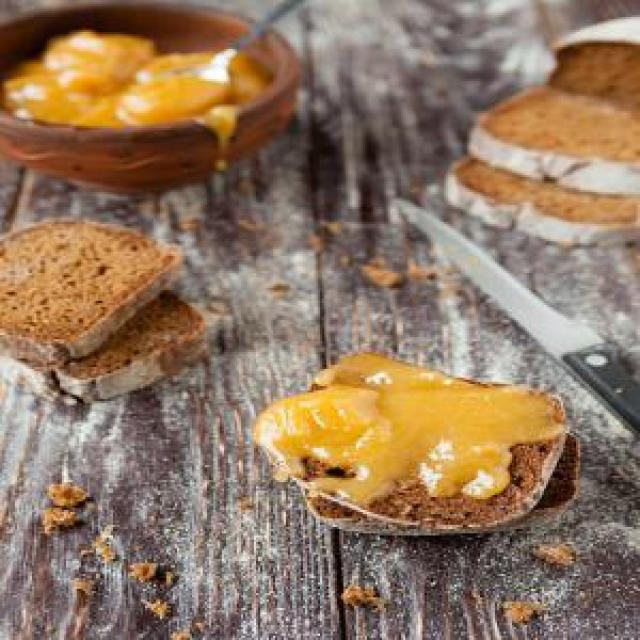knife: (375, 192, 638, 442)
